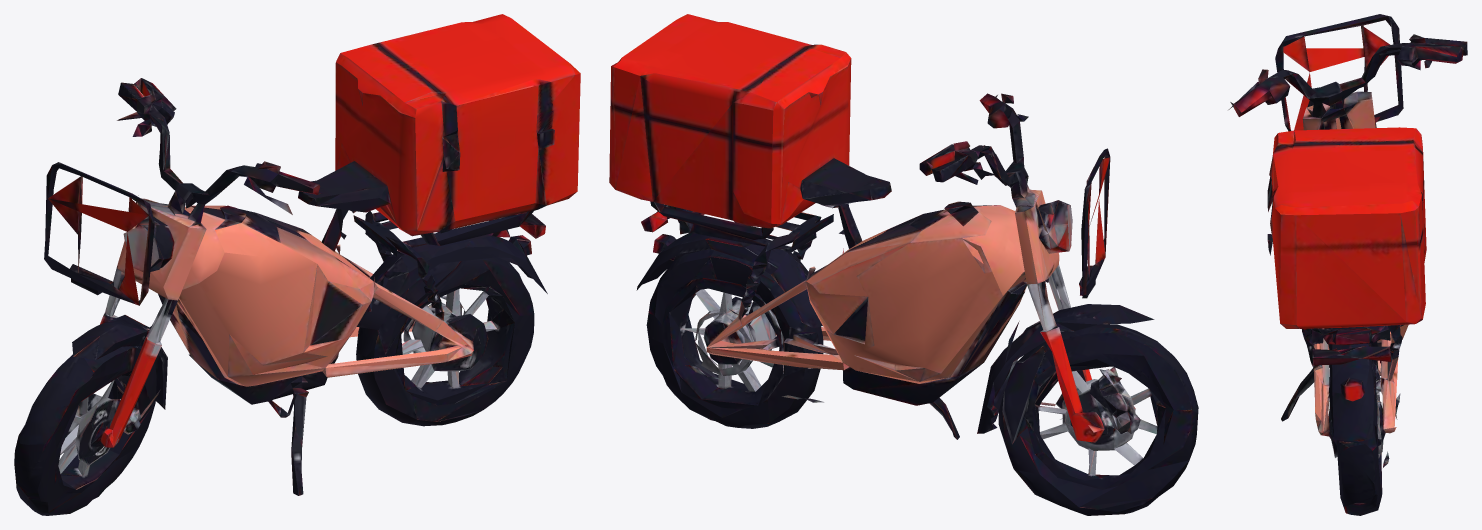
Rendered from e_bike.glb.
3 renders of one model, left to right at view 1: azimuth 30°, elevation 25°; view 2: azimuth 150°, elevation 25°; view 3: azimuth 270°, elevation 25°, orthographic. The views are drawn at different scales.
Bounding box in the file's own units: 1.89 × 1.23 × 0.7679.
Materials: 1 (1 with a texture image).
